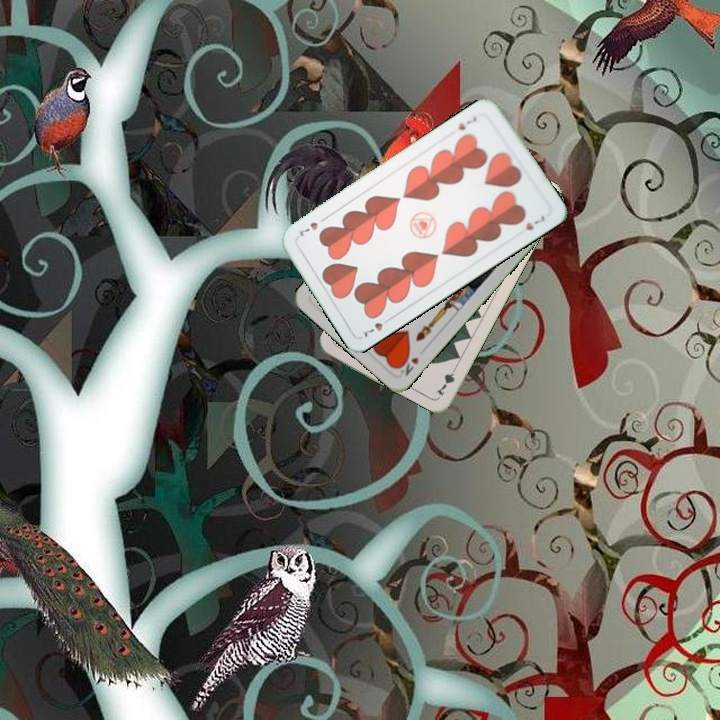G7: (432, 361, 460, 398)
H7: (360, 313, 395, 340), (454, 112, 479, 133)
HK: (394, 351, 421, 379)
